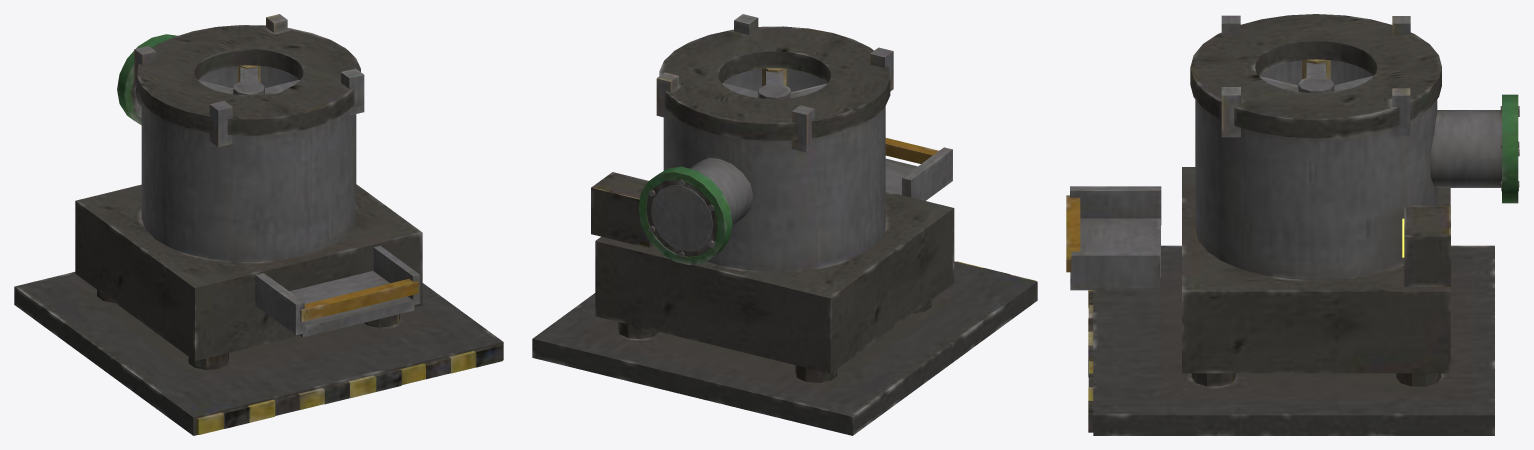
Rendered from feCentrifuge.glb.
3 renders of one model, left to right at view 1: azimuth 30°, elevation 25°; view 2: azimuth 150°, elevation 25°; view 3: azimuth 270°, elevation 25°, orthographic. The views are drawn at different scales.
Parts seen in each view (by area): view 1: feCentrifuge_Base, FeWorkSpin_x8_Rotor; view 2: feCentrifuge_Base, FeWorkSpin_x8_Rotor; view 3: feCentrifuge_Base, FeWorkSpin_x8_Rotor.
Boxes of the visible parts, box(x1,y1,x2,y2) form: feCentrifuge_Base: box(14, 14, 503, 435); FeWorkSpin_x8_Rotor: box(198, 65, 299, 95); feCentrifuge_Base: box(532, 14, 1037, 435); FeWorkSpin_x8_Rotor: box(722, 68, 826, 98); feCentrifuge_Base: box(1066, 14, 1519, 435); FeWorkSpin_x8_Rotor: box(1259, 59, 1372, 92).
Bounding box in the file's own units: 0.9012 × 0.7324 × 1.02.
2 materials, 1 textured.
